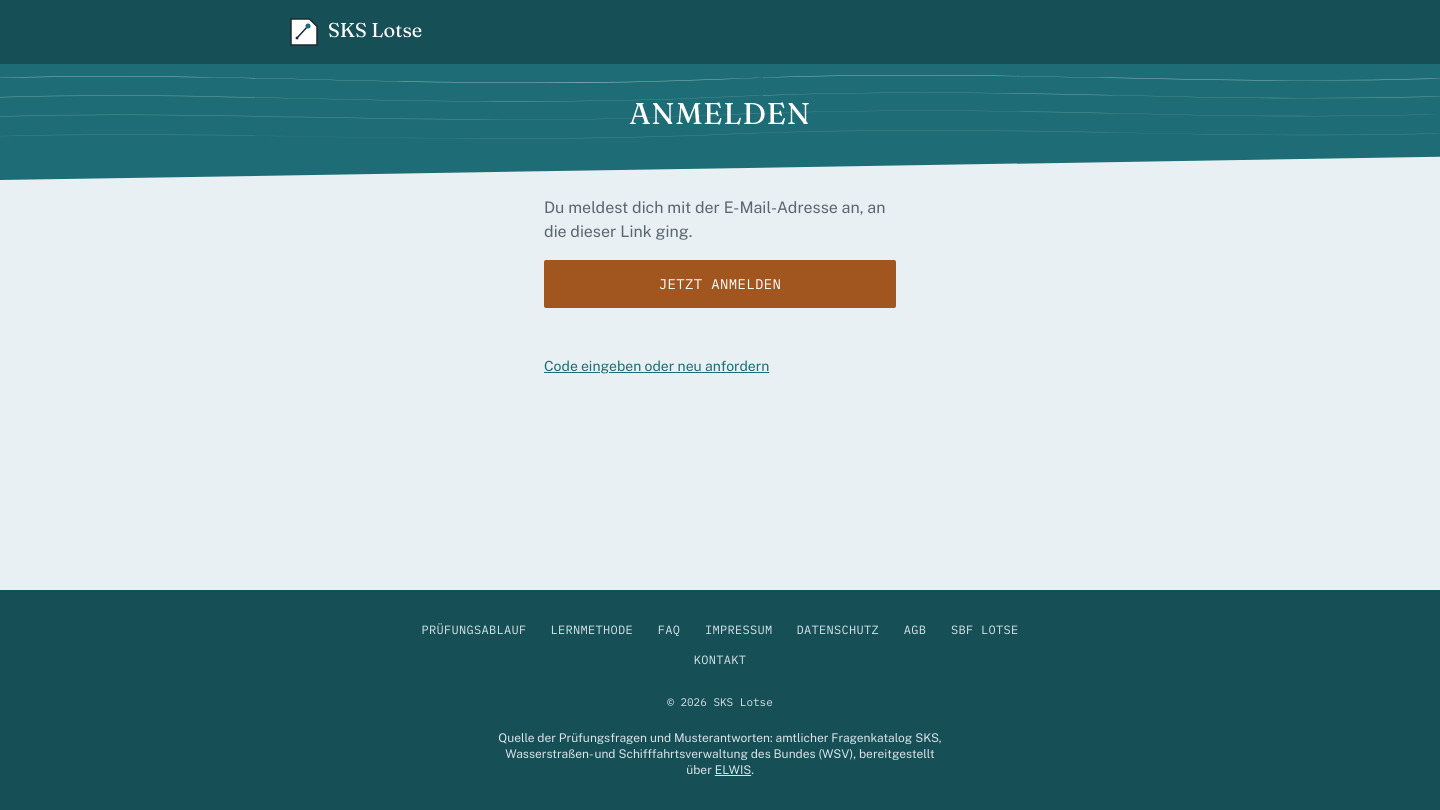
it: LoginLinkPage › says so when the link is used up or expired
Click the button "Jetzt anmelden". click: (720, 284)
box: [544,260,896,308]
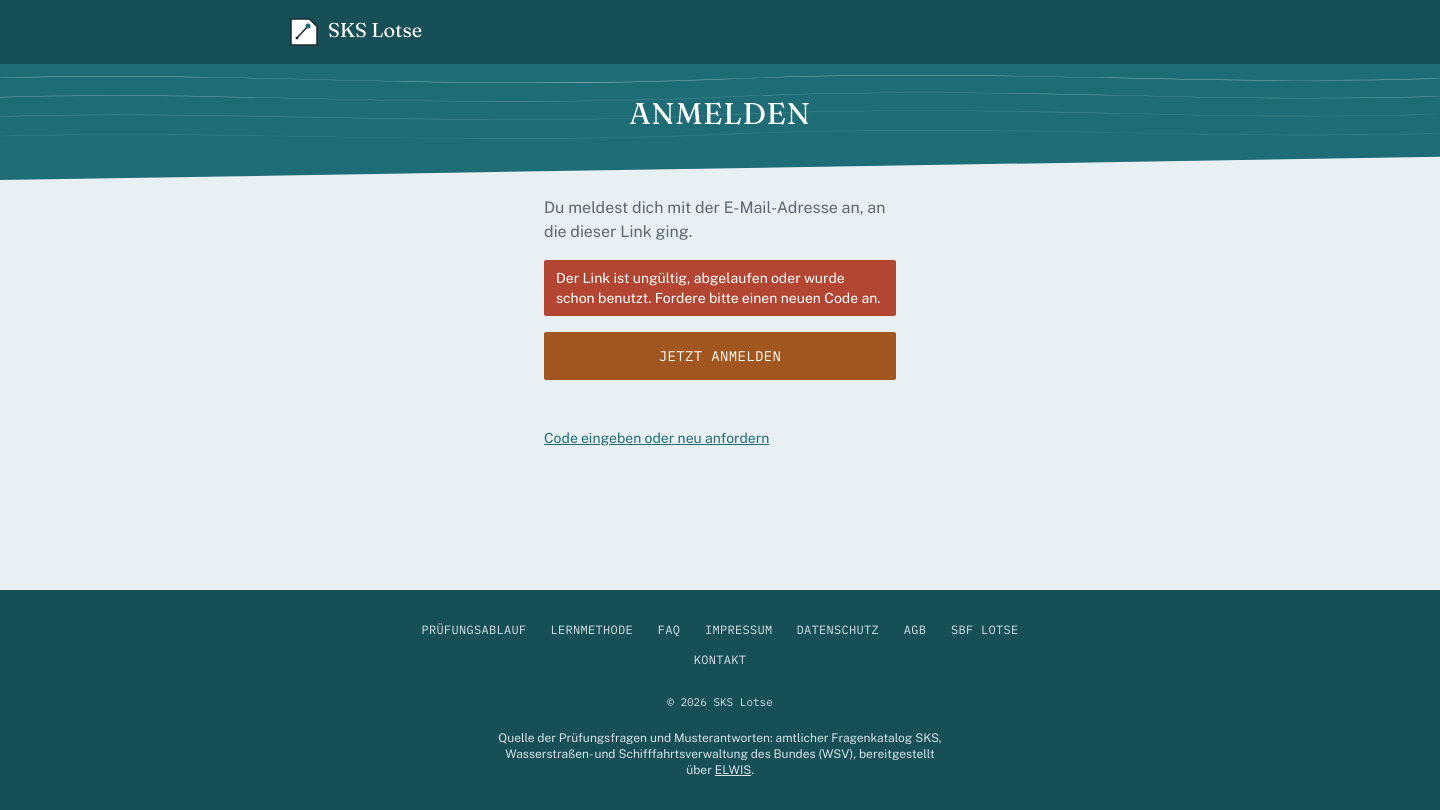
Expected: the message shows "ungültig, abgelaufen oder wurde schon benutzt", [556,270,880,306]
